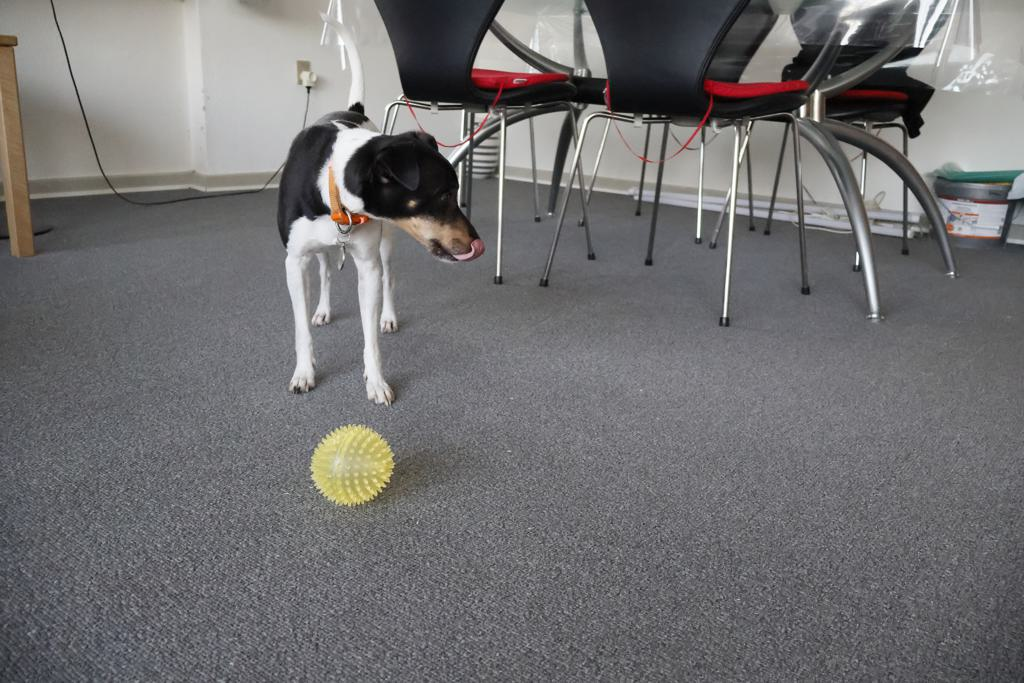Dog: (264, 9, 496, 418)
